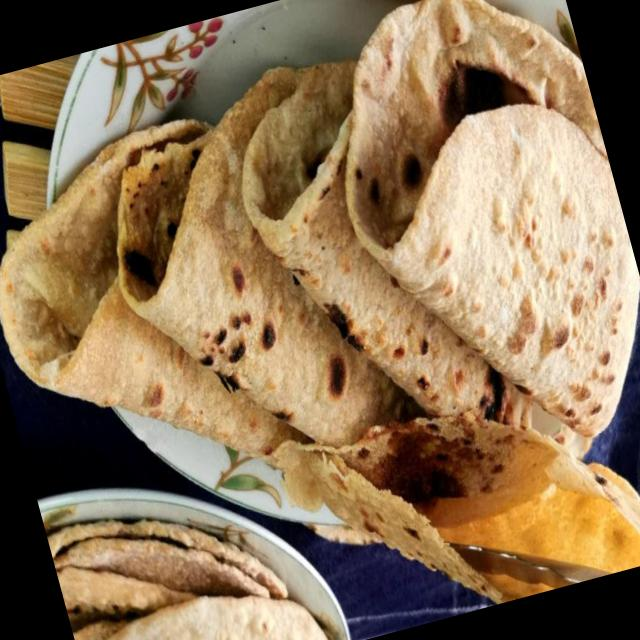roti: (0, 0, 640, 606)
